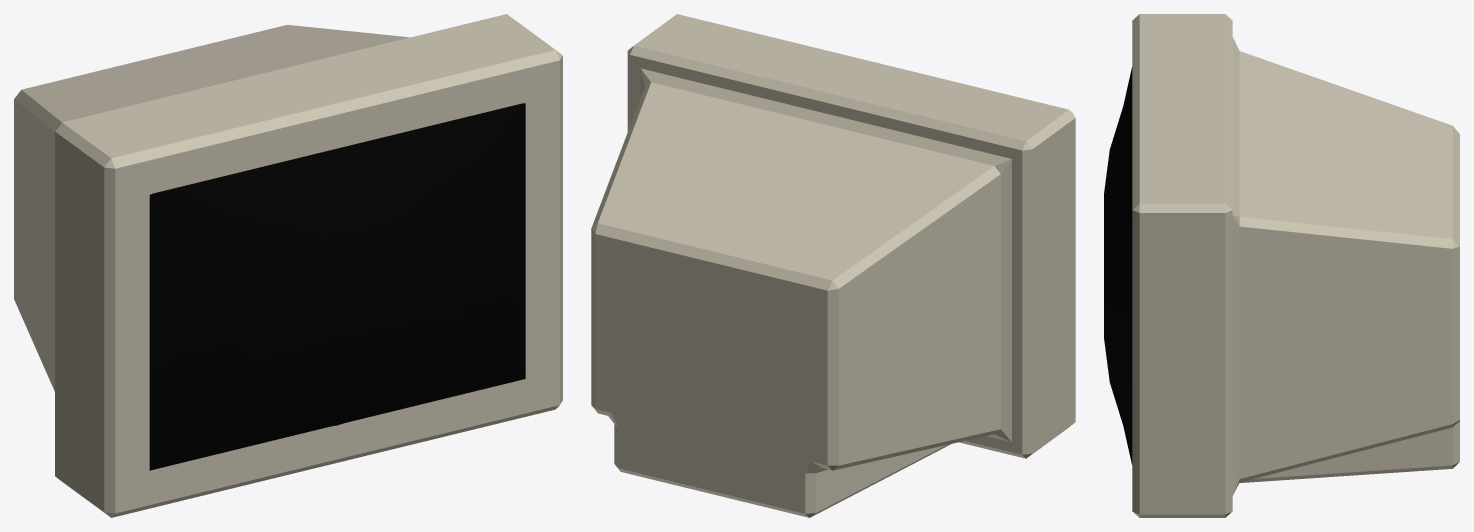
3 views of the same model, side by side, from view 1: azimuth 30°, elevation 25°; view 2: azimuth 150°, elevation 25°; view 3: azimuth 270°, elevation 25° (orthographic). The views are drawn at different scales.
Parts seen in each view (by area): view 1: tv body; view 2: tv body; view 3: tv body.
Boxes of the visible parts, box(x1,y1,x2,y2) form: tv body: box(14, 14, 562, 517); tv body: box(591, 14, 1075, 517); tv body: box(1104, 14, 1459, 517).
Bounding box in the file's own units: 70.72 × 52.98 × 54.34.
